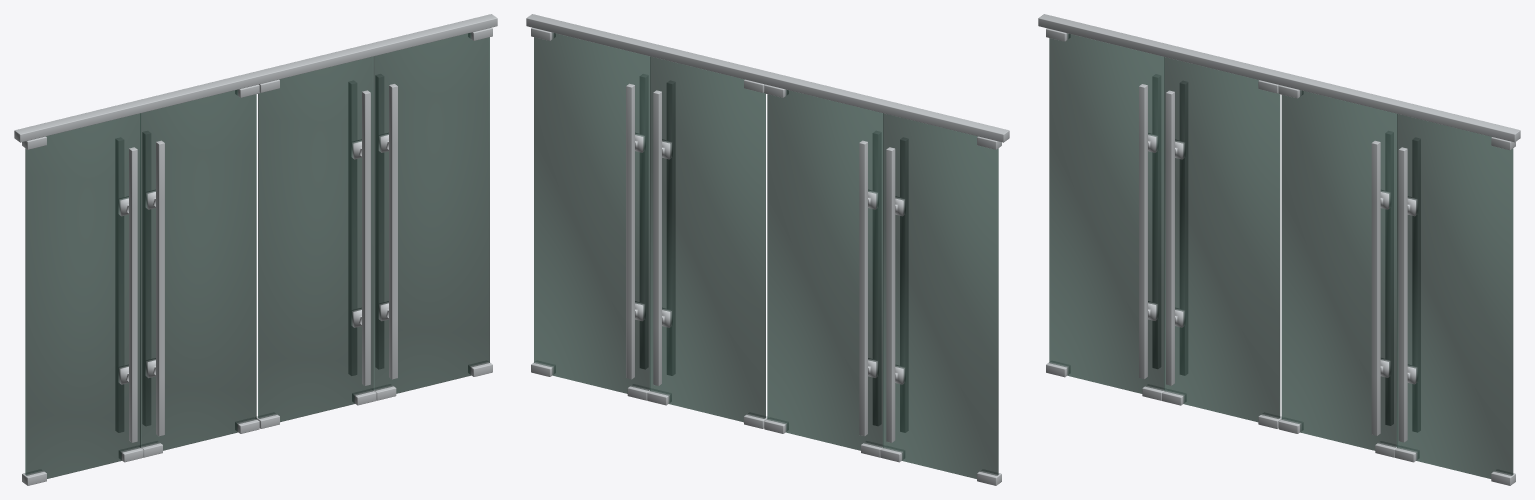
File: glass_door01_obj.obj
The picture shows the model from 3 angles, left to right: view 1: azimuth 30°, elevation 25°; view 2: azimuth 150°, elevation 25°; view 3: azimuth 330°, elevation 25°; orthographic projection.
Visible parts, largest first — view 1: Object004, ChamferBox002, ChamferBox001, ChamferBox003; view 2: Object004, ChamferBox002, ChamferBox001, ChamferBox003; view 3: Object004, ChamferBox002, ChamferBox001, ChamferBox003.
Boxes of the visible parts, x1,y1,x2,y2 form: Object004: (25, 33, 489, 478); ChamferBox002: (115, 74, 397, 442); ChamferBox001: (14, 14, 497, 142); ChamferBox003: (22, 27, 492, 485); Object004: (534, 33, 998, 478); ChamferBox002: (626, 74, 908, 442); ChamferBox001: (526, 14, 1009, 142); ChamferBox003: (531, 27, 1001, 485); Object004: (1049, 33, 1513, 478); ChamferBox002: (1139, 74, 1420, 442); ChamferBox001: (1038, 14, 1520, 142); ChamferBox003: (1046, 28, 1515, 485).
Size of the model in its own units: 123 by 87.1 by 7.57.
